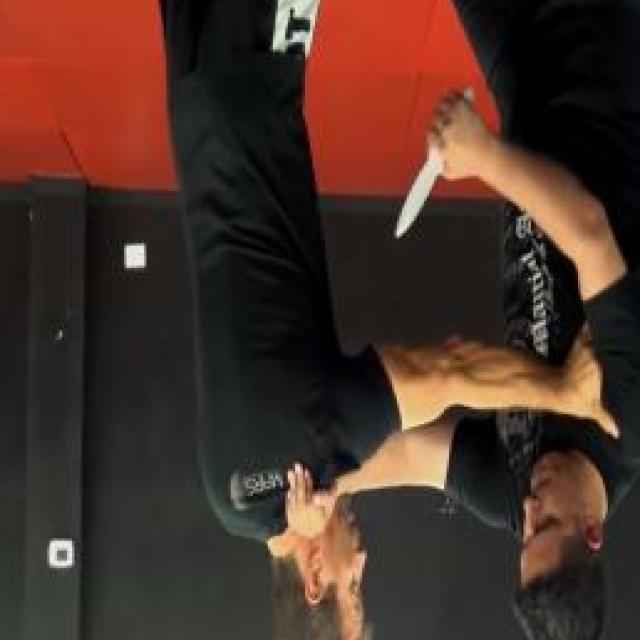knife: (393, 82, 479, 243)
